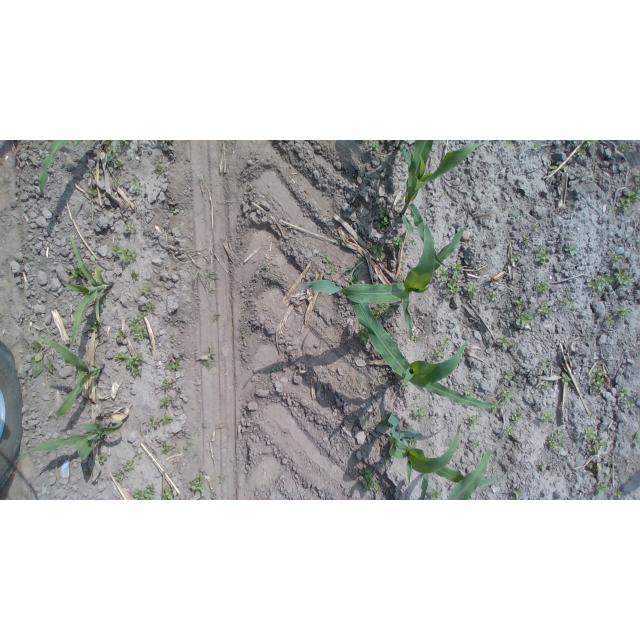Maize: (349, 259, 498, 418), (305, 224, 472, 343), (394, 141, 485, 276), (380, 412, 499, 496), (8, 415, 129, 474), (64, 233, 117, 351), (42, 332, 106, 420), (36, 141, 85, 203)
Weeds: (25, 339, 56, 376), (357, 463, 390, 497), (615, 175, 640, 213), (439, 260, 466, 295), (581, 425, 609, 458), (113, 351, 143, 380), (593, 475, 626, 500), (194, 268, 219, 296), (612, 255, 632, 288), (110, 244, 139, 265), (588, 364, 608, 394), (143, 414, 177, 431), (543, 428, 567, 452), (128, 313, 150, 339), (188, 471, 209, 497), (586, 274, 618, 291), (512, 309, 535, 332), (537, 299, 560, 321), (603, 305, 630, 323), (428, 339, 451, 360), (571, 141, 597, 159), (105, 142, 128, 161), (132, 484, 158, 500), (372, 300, 389, 324), (348, 259, 365, 283), (409, 404, 431, 422), (617, 385, 634, 408), (532, 246, 550, 267), (69, 263, 89, 281), (467, 412, 486, 430), (356, 325, 374, 344), (468, 435, 485, 455), (494, 386, 514, 403), (200, 347, 214, 371), (539, 410, 559, 426), (533, 280, 553, 296), (377, 208, 392, 229), (496, 334, 514, 351), (159, 395, 178, 411), (371, 243, 387, 262), (323, 254, 338, 274), (159, 488, 182, 501), (157, 442, 179, 455), (507, 485, 526, 500), (139, 302, 160, 315), (555, 373, 574, 387), (510, 407, 526, 423), (124, 220, 139, 237), (162, 379, 179, 394), (565, 242, 580, 259), (502, 371, 519, 386), (112, 471, 131, 484), (465, 280, 478, 299), (165, 356, 181, 371), (87, 318, 102, 334), (549, 161, 565, 176), (559, 297, 579, 308), (391, 235, 405, 250), (153, 164, 169, 177), (426, 489, 444, 500), (367, 140, 381, 154), (96, 454, 111, 467), (271, 361, 286, 374), (141, 285, 156, 298), (129, 179, 143, 192), (485, 288, 498, 302), (521, 234, 533, 249), (122, 460, 136, 472), (539, 463, 552, 475), (113, 328, 126, 340), (513, 295, 527, 306), (530, 143, 543, 154), (130, 270, 143, 281), (258, 262, 270, 273), (111, 179, 124, 189), (634, 429, 640, 450), (112, 162, 125, 171), (172, 207, 182, 218), (218, 473, 227, 485), (509, 250, 518, 262), (504, 424, 514, 434), (337, 234, 345, 246), (90, 186, 99, 196), (534, 225, 542, 236), (503, 140, 514, 148), (408, 238, 417, 246), (134, 450, 143, 458), (185, 438, 195, 445), (620, 339, 628, 347), (465, 388, 473, 396)
